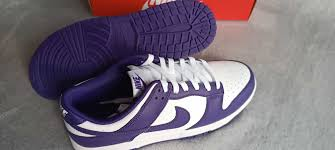nike_dunk_low_purple_court: (58, 54, 257, 150)
